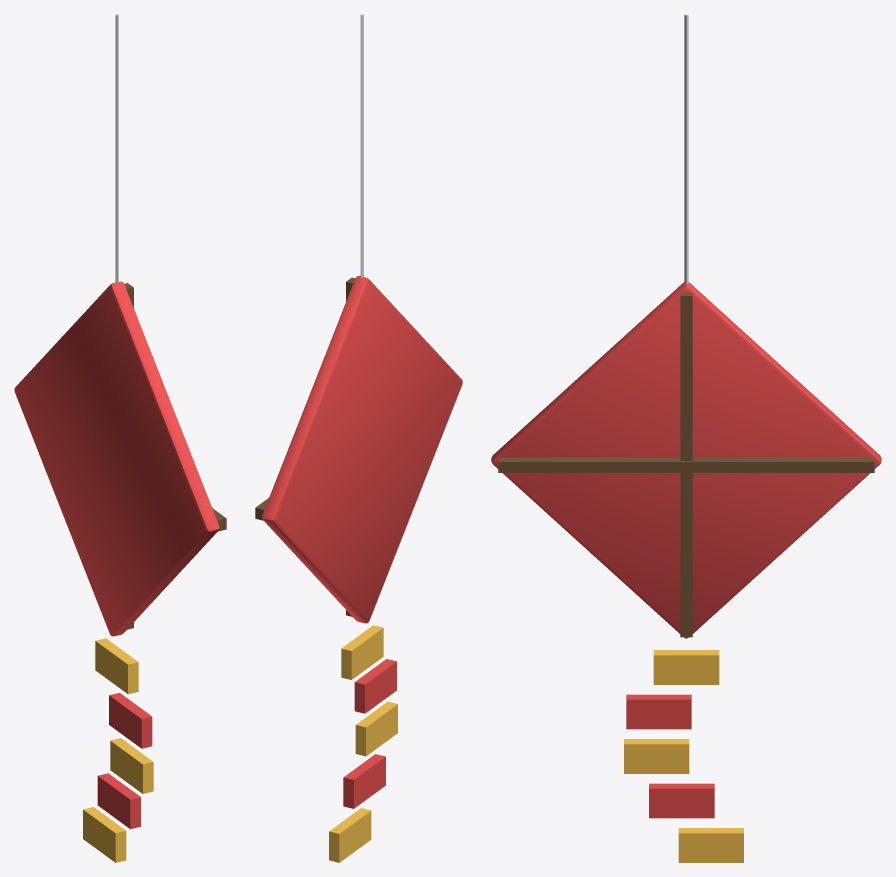
The model's file is HangSky.fbx.
3 renders of one model, left to right at view 1: azimuth 30°, elevation 25°; view 2: azimuth 150°, elevation 25°; view 3: azimuth 270°, elevation 25°, orthographic. The views are drawn at different scales.
Visible parts, largest first — view 1: HangSky; view 2: HangSky; view 3: HangSky.
Part boxes in pixels (x1,y1,x2,y2): HangSky: [14, 14, 226, 862]; HangSky: [255, 14, 462, 862]; HangSky: [491, 14, 881, 862].
Size of the model in its own units: 32 by 1140 by 477.
